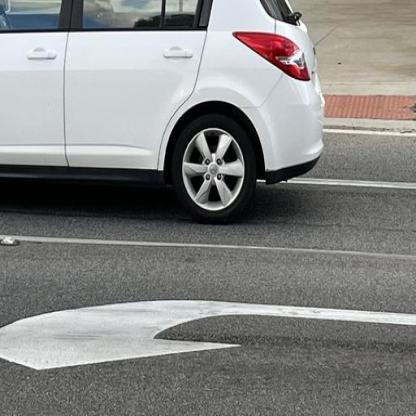Tire: (172, 111, 258, 225)
